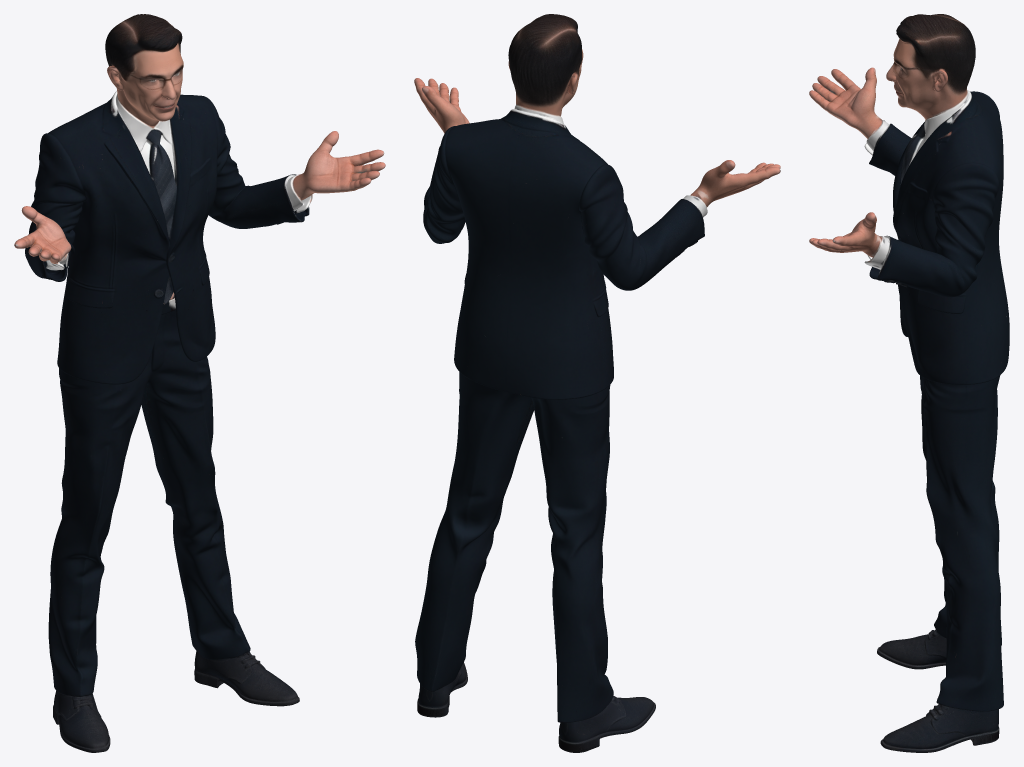
Rendered from player_3_highres.glb.
The picture shows the model from 3 angles, left to right: view 1: azimuth 30°, elevation 25°; view 2: azimuth 150°, elevation 25°; view 3: azimuth 270°, elevation 25°; orthographic projection. The views are drawn at different scales.
Bounding box in the file's own units: 1.05 × 1.9 × 0.5098.
1 material, 1 textured.
